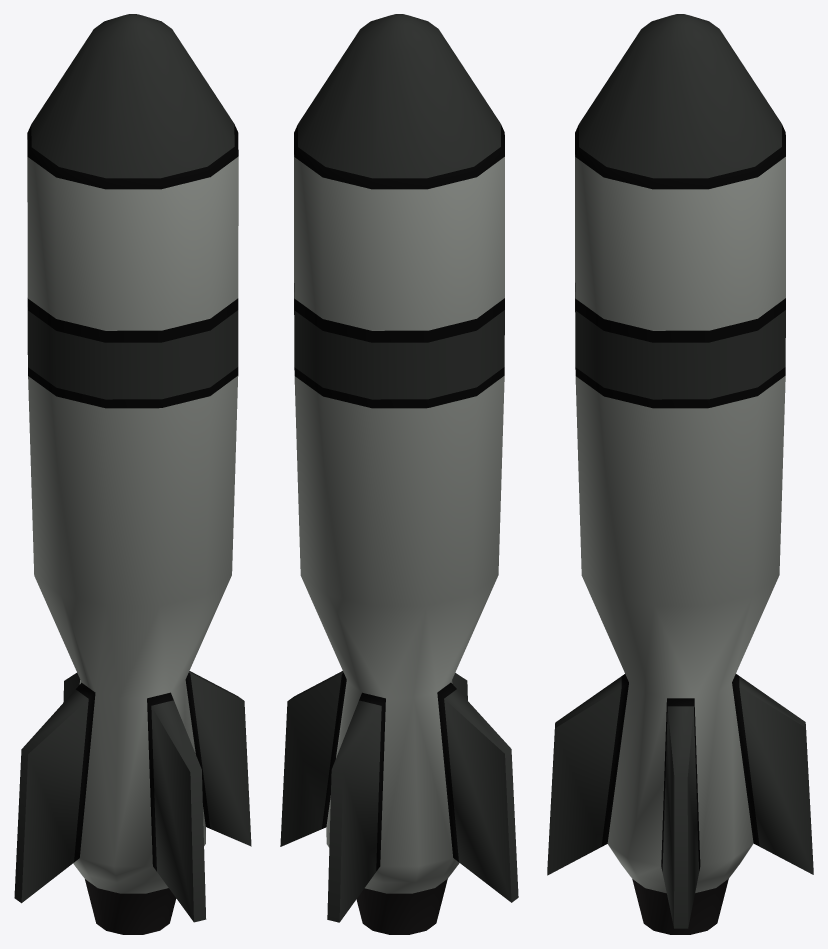
File: Rocket04_Grey.fbx
3 views of the same model, side by side, from view 1: azimuth 30°, elevation 25°; view 2: azimuth 150°, elevation 25°; view 3: azimuth 270°, elevation 25° (orthographic).
Parts seen in each view (by area): view 1: Rocket04_Grey; view 2: Rocket04_Grey; view 3: Rocket04_Grey.
Boxes of the visible parts, box(x1,y1,x2,y2) form: Rocket04_Grey: box(14, 14, 251, 934); Rocket04_Grey: box(280, 14, 518, 934); Rocket04_Grey: box(547, 14, 813, 934).
Size of the model in its own units: 261 by 978 by 261.
Materials: 1 (1 with a texture image).
